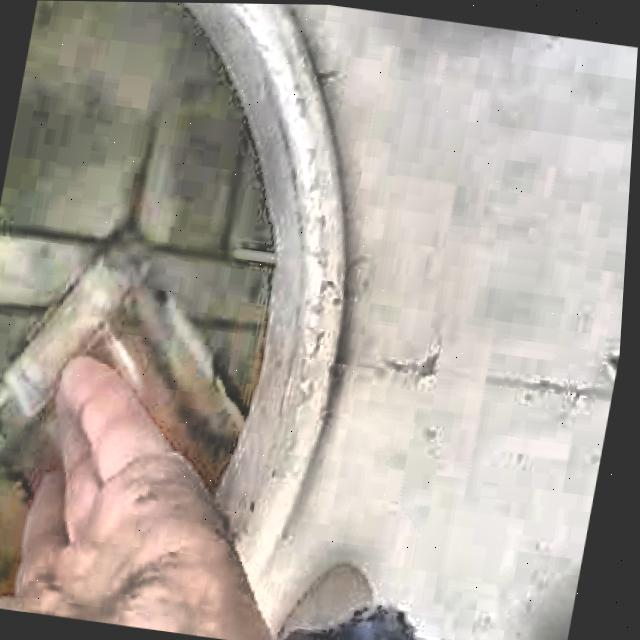glass: (0, 234, 249, 493)
